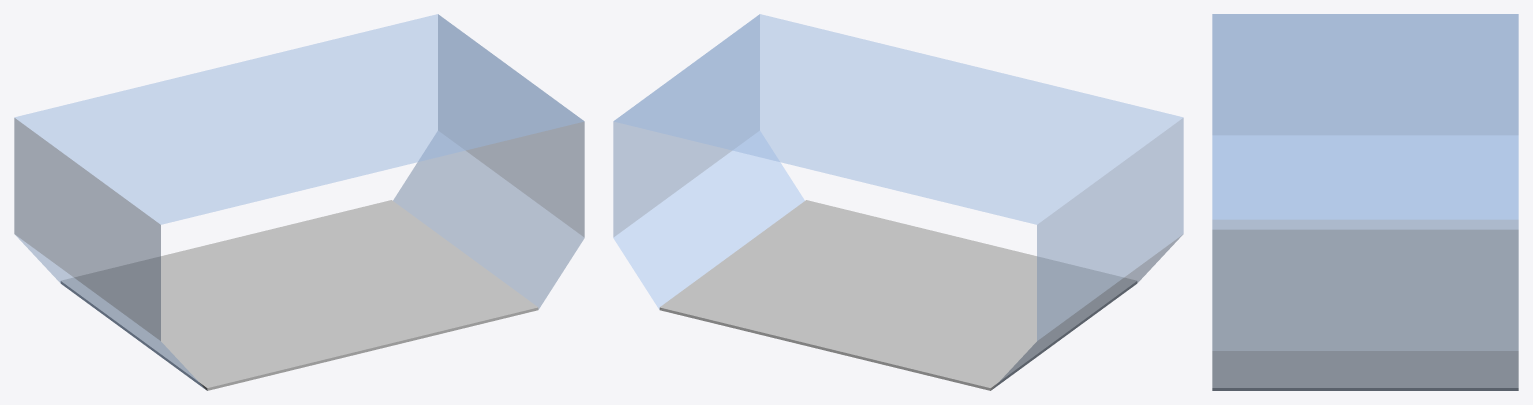
The model's file is pmc2.gltf.
3 views of the same model, side by side, from view 1: azimuth 30°, elevation 25°; view 2: azimuth 150°, elevation 25°; view 3: azimuth 270°, elevation 25° (orthographic). The views are drawn at different scales.
Visible parts, largest first — view 1: Node6, Node3, Node7, Node9, Node10, Node8, Node2; view 2: Node6, Node3, Node7, Node9, Node10, Node8, Node11, Node4; view 3: Node6, Node3, Node9, Node7, Node8, Node10, Node5.
Boxes of the visible parts, x1,y1,x2,y2 form: Node6: [14, 14, 584, 224]; Node3: [61, 200, 537, 387]; Node7: [14, 118, 160, 340]; Node9: [438, 14, 584, 237]; Node10: [393, 131, 584, 309]; Node8: [15, 235, 205, 389]; Node2: [207, 307, 538, 390]; Node6: [613, 14, 1183, 224]; Node3: [660, 200, 1136, 387]; Node7: [1037, 118, 1183, 340]; Node9: [613, 14, 759, 237]; Node10: [613, 131, 804, 309]; Node8: [992, 235, 1182, 389]; Node11: [659, 307, 990, 390]; Node4: [661, 308, 989, 389]; Node6: [1212, 14, 1518, 229]; Node3: [1212, 219, 1518, 387]; Node9: [1212, 229, 1518, 350]; Node7: [1212, 14, 1518, 134]; Node8: [1212, 135, 1518, 219]; Node10: [1212, 351, 1518, 390]; Node5: [1212, 388, 1518, 390].
Bounding box in the file's own units: 160 × 64 × 96.
